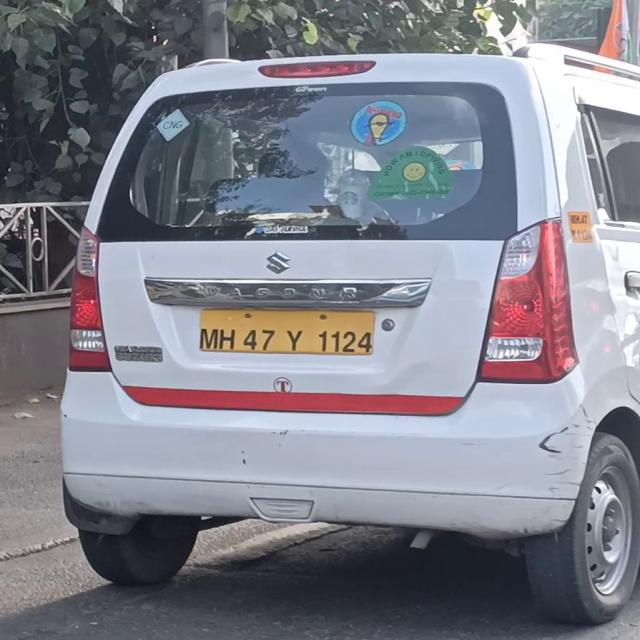license_plate: (193, 298, 381, 367)
